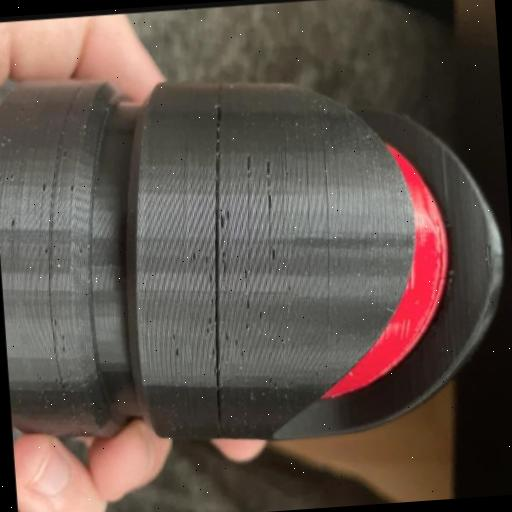cracks: (192, 97, 266, 426)
